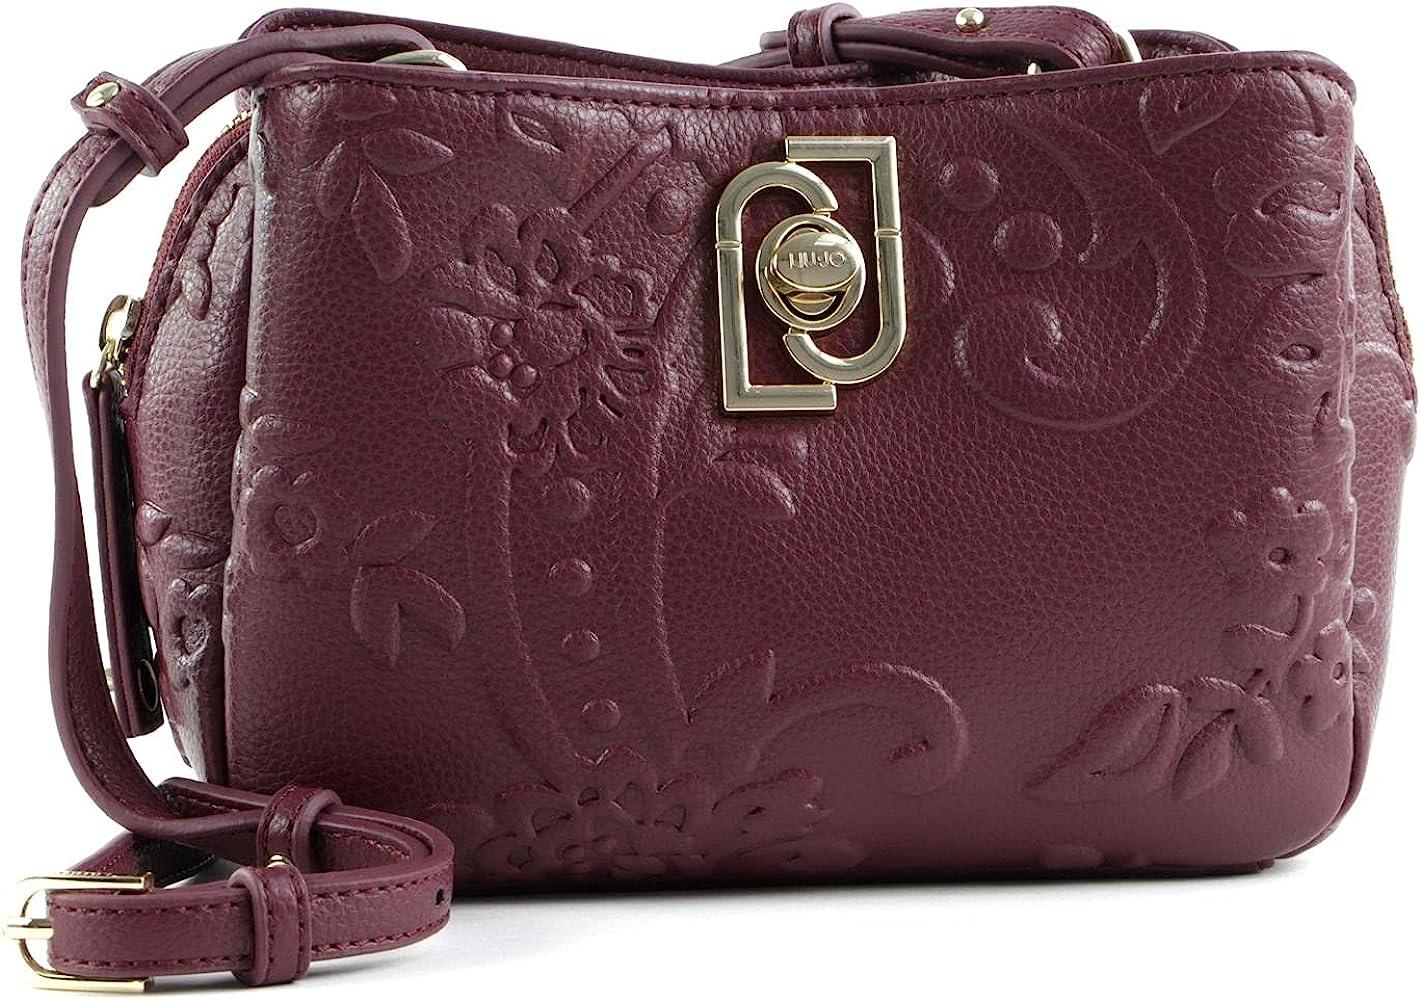LIU-JO: (714, 134, 905, 412)
